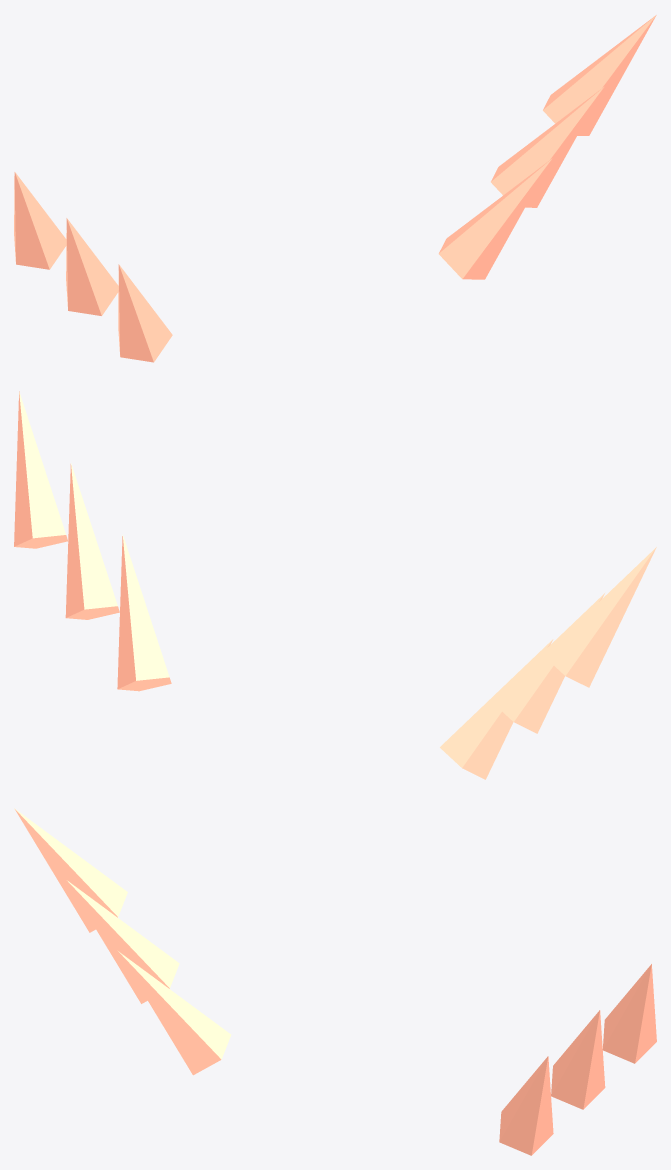
The model's file is EMBER_AWAKENED_BUILD.glb.
The picture shows the model from 3 angles, top to bottom: view 1: azimuth 30°, elevation 25°; view 2: azimuth 150°, elevation 25°; view 3: azimuth 330°, elevation 25°; orthographic projection.
Visible parts, largest first — view 1: ANI08C_ember-vale_1_vent_R0, ANI08C_ember-vale_1_vent_R1, ANI08C_ember-vale_1_vent_R2, ANI08C_ember-vale_1_vent_L0, ANI08C_ember-vale_1_vent_L1, ANI08C_ember-vale_1_vent_L2; view 2: ANI08C_ember-vale_1_vent_L2, ANI08C_ember-vale_1_vent_R0, ANI08C_ember-vale_1_vent_R1, ANI08C_ember-vale_1_vent_R2, ANI08C_ember-vale_1_vent_L0, ANI08C_ember-vale_1_vent_L1; view 3: ANI08C_ember-vale_1_vent_L0, ANI08C_ember-vale_1_vent_L1, ANI08C_ember-vale_1_vent_L2, ANI08C_ember-vale_1_vent_R2, ANI08C_ember-vale_1_vent_R1, ANI08C_ember-vale_1_vent_R0.
Part boxes in pixels (bbox=[...]): ANI08C_ember-vale_1_vent_R0: bbox=[438, 158, 552, 279]; ANI08C_ember-vale_1_vent_R1: bbox=[491, 86, 604, 207]; ANI08C_ember-vale_1_vent_R2: bbox=[543, 15, 656, 135]; ANI08C_ember-vale_1_vent_L0: bbox=[118, 264, 172, 362]; ANI08C_ember-vale_1_vent_L1: bbox=[66, 218, 118, 315]; ANI08C_ember-vale_1_vent_L2: bbox=[14, 172, 66, 269]; ANI08C_ember-vale_1_vent_L2: bbox=[543, 547, 656, 687]; ANI08C_ember-vale_1_vent_R0: bbox=[117, 534, 171, 691]; ANI08C_ember-vale_1_vent_R1: bbox=[65, 463, 119, 619]; ANI08C_ember-vale_1_vent_R2: bbox=[14, 391, 67, 548]; ANI08C_ember-vale_1_vent_L0: bbox=[440, 639, 553, 779]; ANI08C_ember-vale_1_vent_L1: bbox=[491, 593, 604, 733]; ANI08C_ember-vale_1_vent_L0: bbox=[118, 951, 231, 1075]; ANI08C_ember-vale_1_vent_L1: bbox=[66, 880, 179, 1003]; ANI08C_ember-vale_1_vent_L2: bbox=[14, 808, 127, 932]; ANI08C_ember-vale_1_vent_R2: bbox=[602, 964, 656, 1063]; ANI08C_ember-vale_1_vent_R1: bbox=[551, 1010, 605, 1109]; ANI08C_ember-vale_1_vent_R0: bbox=[499, 1056, 553, 1155].
Bounding box in the file's own units: 0.444 × 0.1638 × 0.0555.
